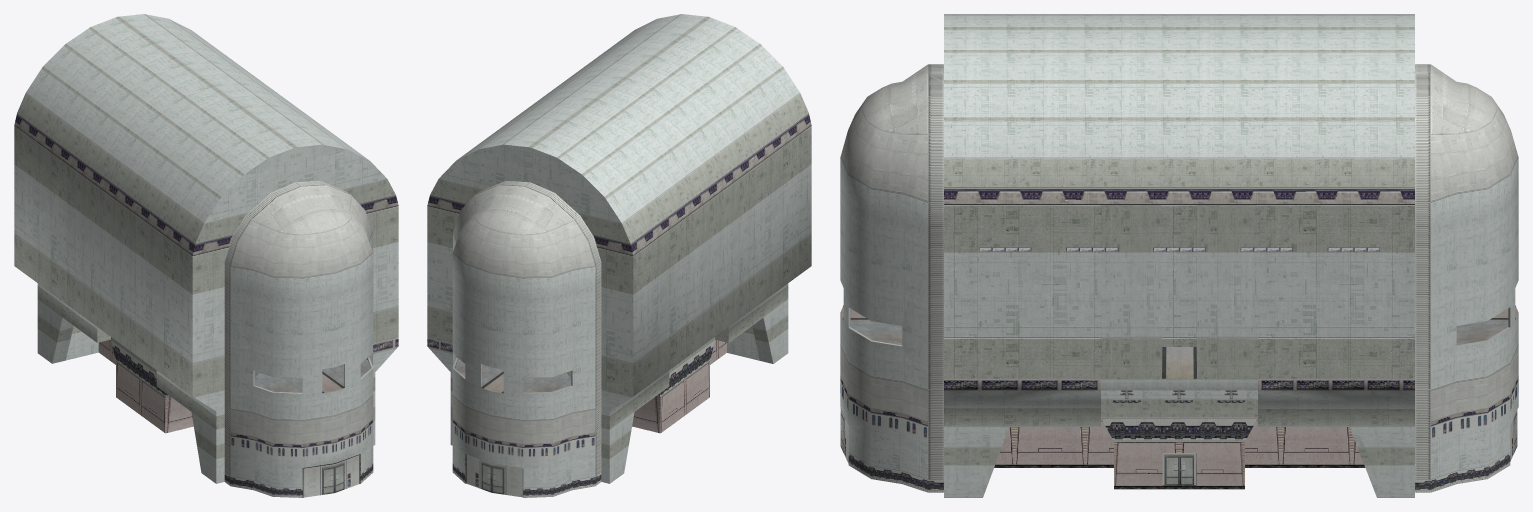
Rendered from bes2_bldg_mall.glb.
The picture shows the model from 3 angles, left to right: view 1: azimuth 30°, elevation 25°; view 2: azimuth 150°, elevation 25°; view 3: azimuth 270°, elevation 25°; orthographic projection. The views are drawn at different scales.
Visible parts, largest first — view 1: mesh_part7, mesh_part8, mesh_part11, mesh_part9, mesh_part3; view 2: mesh_part7, mesh_part8, mesh_part11, mesh_part9, mesh_part3; view 3: mesh_part7, mesh_part8, mesh_part9, mesh_part11, mesh_part12, mesh_part3, mesh_part10, mesh_part4, mesh_part6.
Boxes of the visible parts, bbox=[...] form: mesh_part7: bbox=[14, 14, 398, 488]; mesh_part8: bbox=[111, 181, 373, 497]; mesh_part11: bbox=[14, 113, 398, 497]; mesh_part9: bbox=[98, 337, 398, 433]; mesh_part3: bbox=[255, 359, 370, 392]; mesh_part7: bbox=[427, 14, 811, 488]; mesh_part8: bbox=[452, 181, 714, 497]; mesh_part11: bbox=[427, 113, 811, 497]; mesh_part9: bbox=[427, 337, 726, 433]; mesh_part3: bbox=[455, 359, 570, 393]; mesh_part7: bbox=[840, 14, 1518, 497]; mesh_part8: bbox=[840, 64, 1518, 492]; mesh_part9: bbox=[944, 378, 1414, 485]; mesh_part11: bbox=[840, 187, 1518, 485]; mesh_part12: bbox=[1101, 390, 1257, 410]; mesh_part3: bbox=[850, 319, 1508, 345]; mesh_part10: bbox=[994, 464, 1365, 489]; mesh_part4: bbox=[840, 305, 1518, 378]; mesh_part6: bbox=[979, 247, 1379, 251].
Size of the model in its own units: 36.07 by 52.95 by 77.72.
11 materials, 11 textured.
